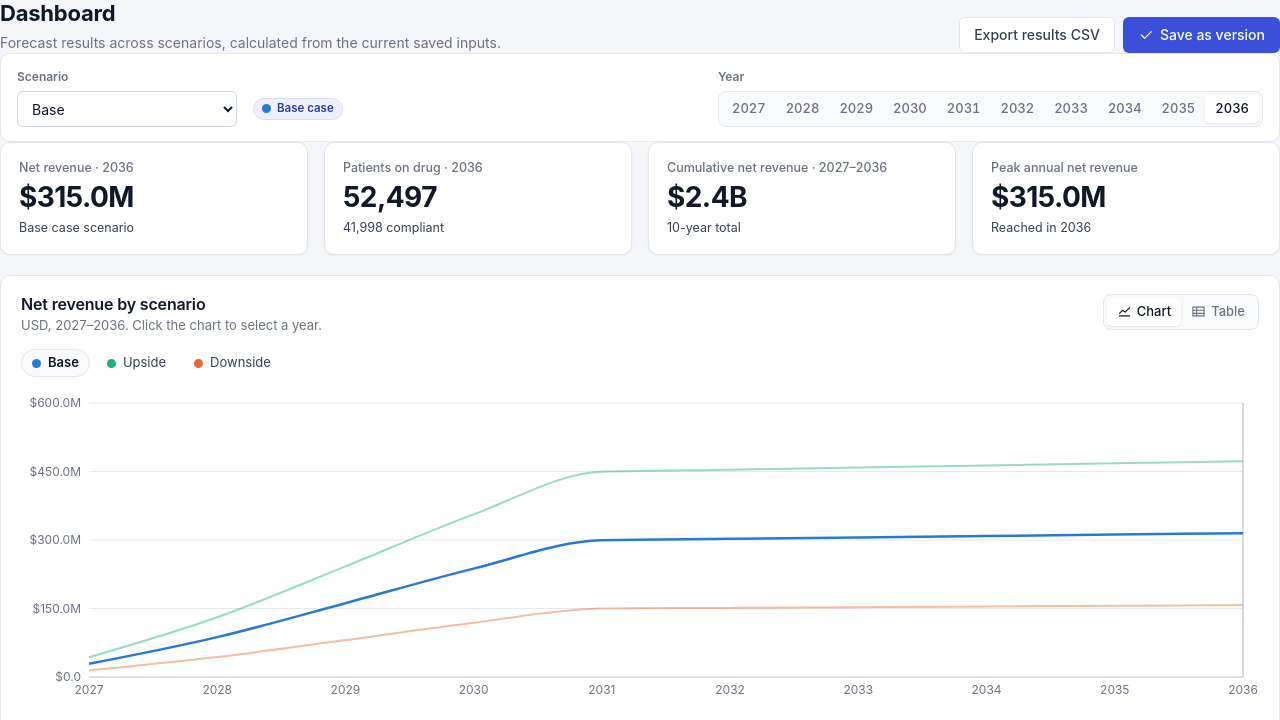
Test: DashboardPage › shows every funnel stage for the selected scenario and year
Click the button "2027" at [749, 108], box [722,94,776,122]
(page scrolled)
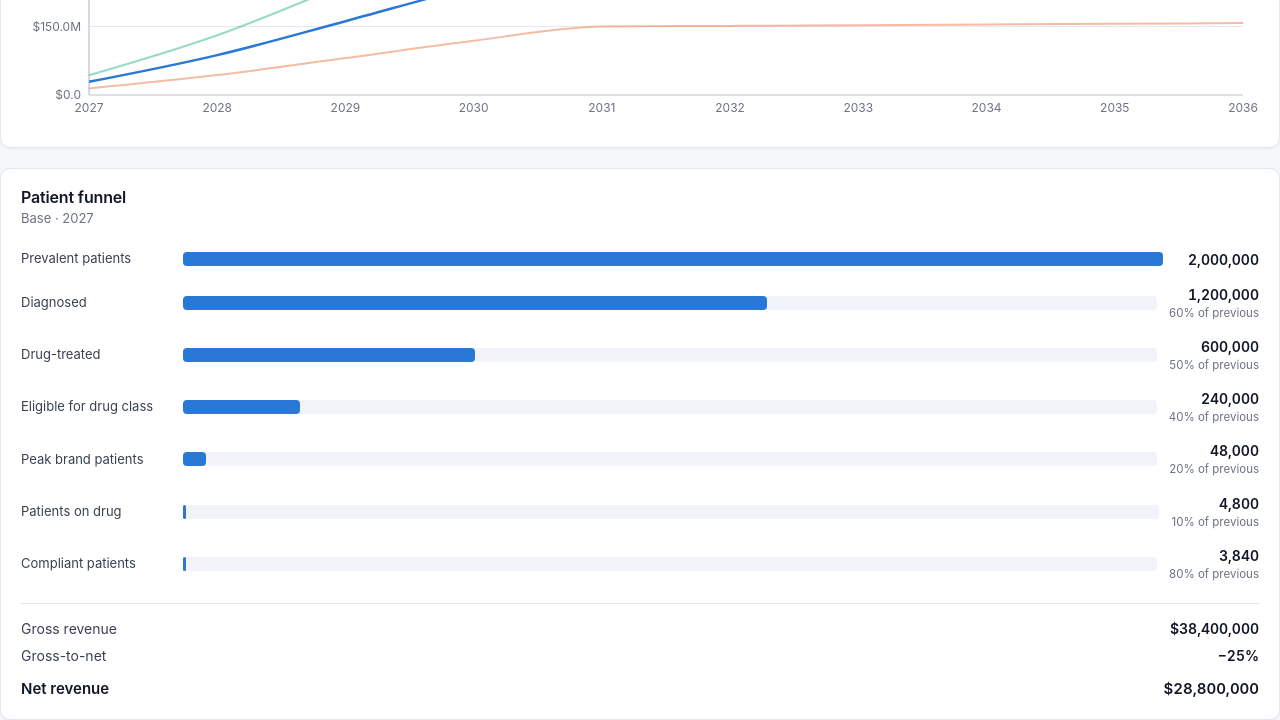
Now the element "Patient funnel" shows "Base · 2027"
